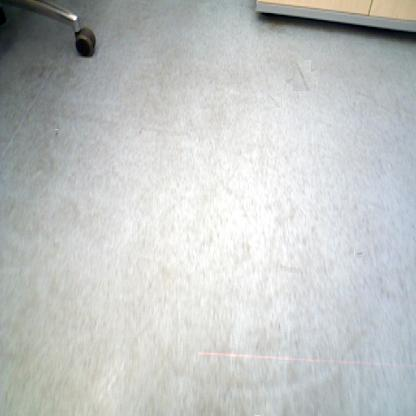mark: (289, 62, 315, 88), (267, 92, 281, 108), (355, 250, 363, 257), (54, 129, 58, 138)
